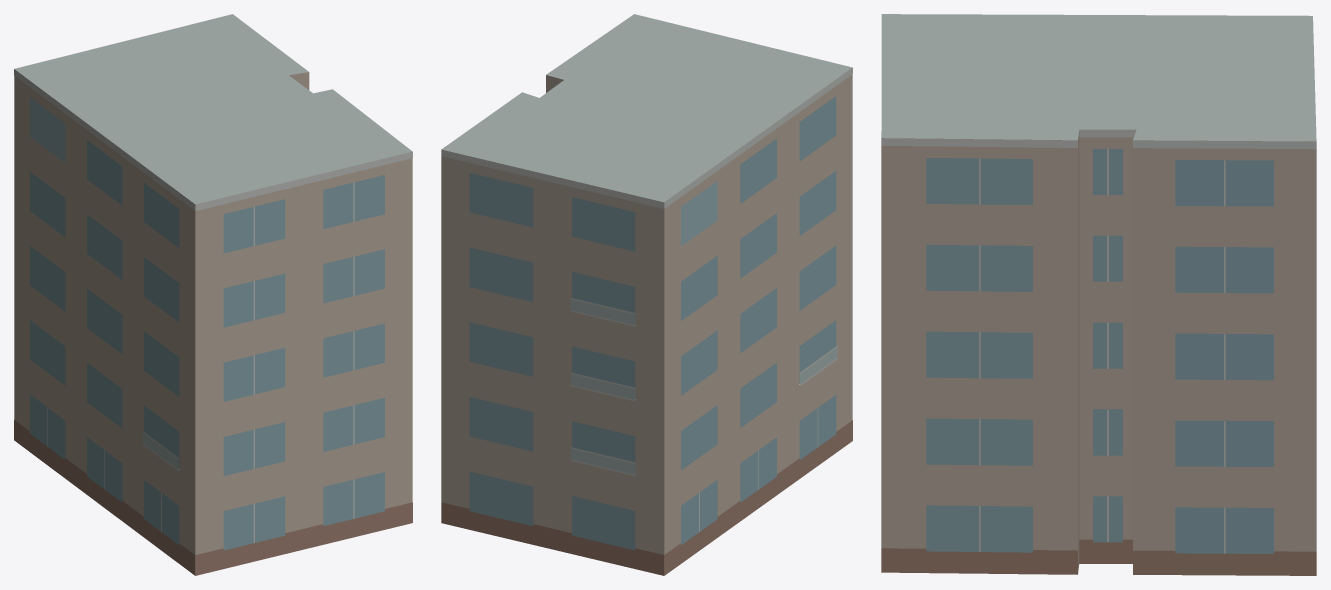
Rendered from survey-upis-32643875.glb.
3 renders of one model, left to right at view 1: azimuth 30°, elevation 25°; view 2: azimuth 150°, elevation 25°; view 3: azimuth 270°, elevation 25°, orthographic. The views are drawn at different scales.
Parts seen in each view (by area): view 1: survey-upis-32643875.tmp; view 2: survey-upis-32643875.tmp; view 3: survey-upis-32643875.tmp.
Part boxes in pixels (bbox=[...]): survey-upis-32643875.tmp: bbox=[14, 14, 412, 575]; survey-upis-32643875.tmp: bbox=[441, 14, 852, 575]; survey-upis-32643875.tmp: bbox=[881, 14, 1316, 575].
Size of the model in its own units: 8.65 by 13.7 by 12.45.
